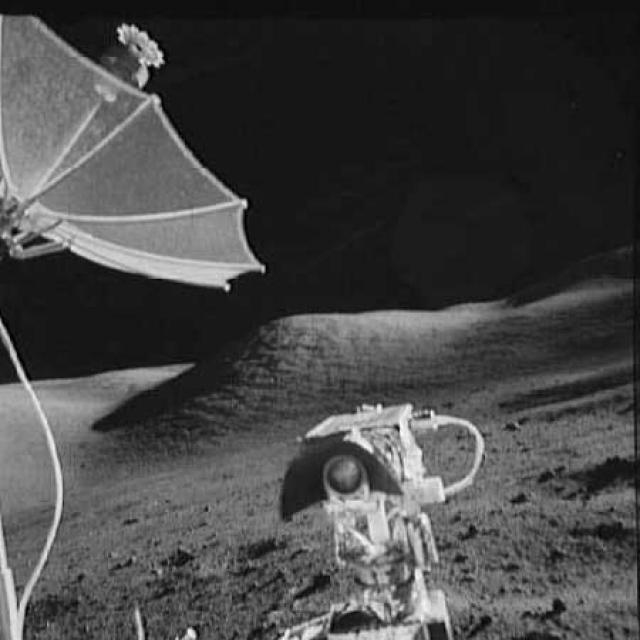artifact: (0, 7, 275, 299), (260, 390, 494, 638), (0, 324, 86, 639)
crater: (530, 458, 638, 505)
